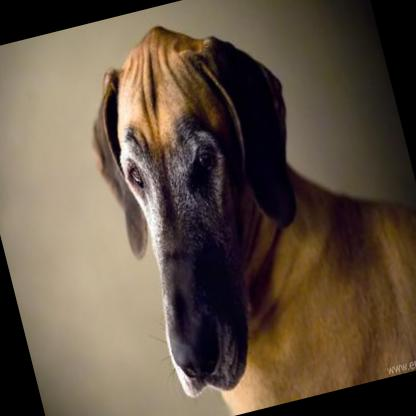Great_Dane: (66, 0, 416, 416)
